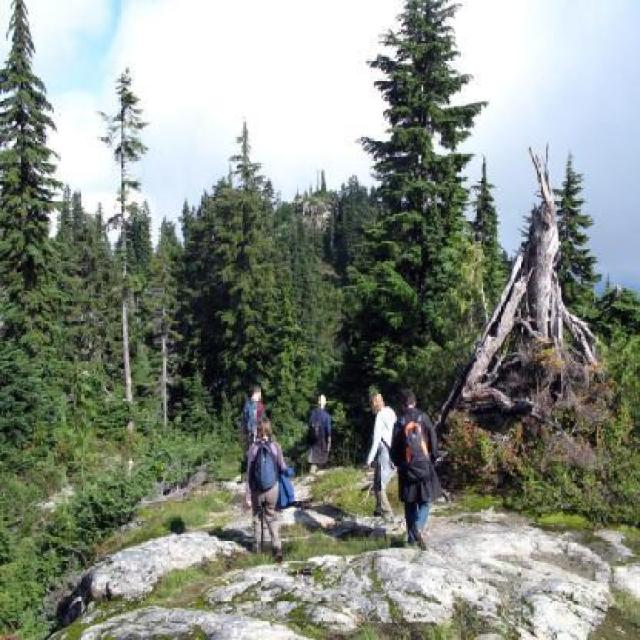backpack: (397, 411, 432, 482), (249, 440, 280, 494), (242, 397, 258, 438), (308, 412, 324, 446)
